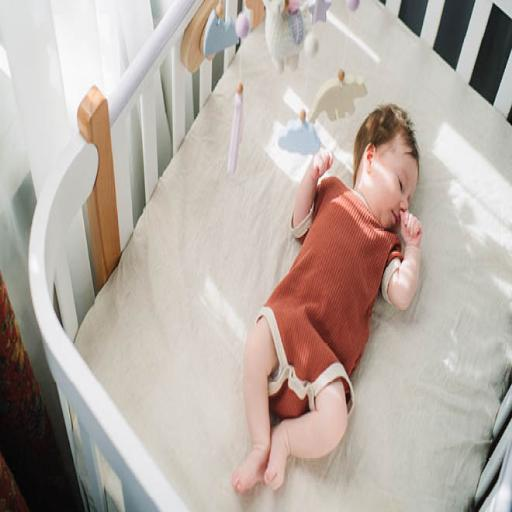baby: (232, 104, 422, 492)
crib: (29, 0, 511, 510)
